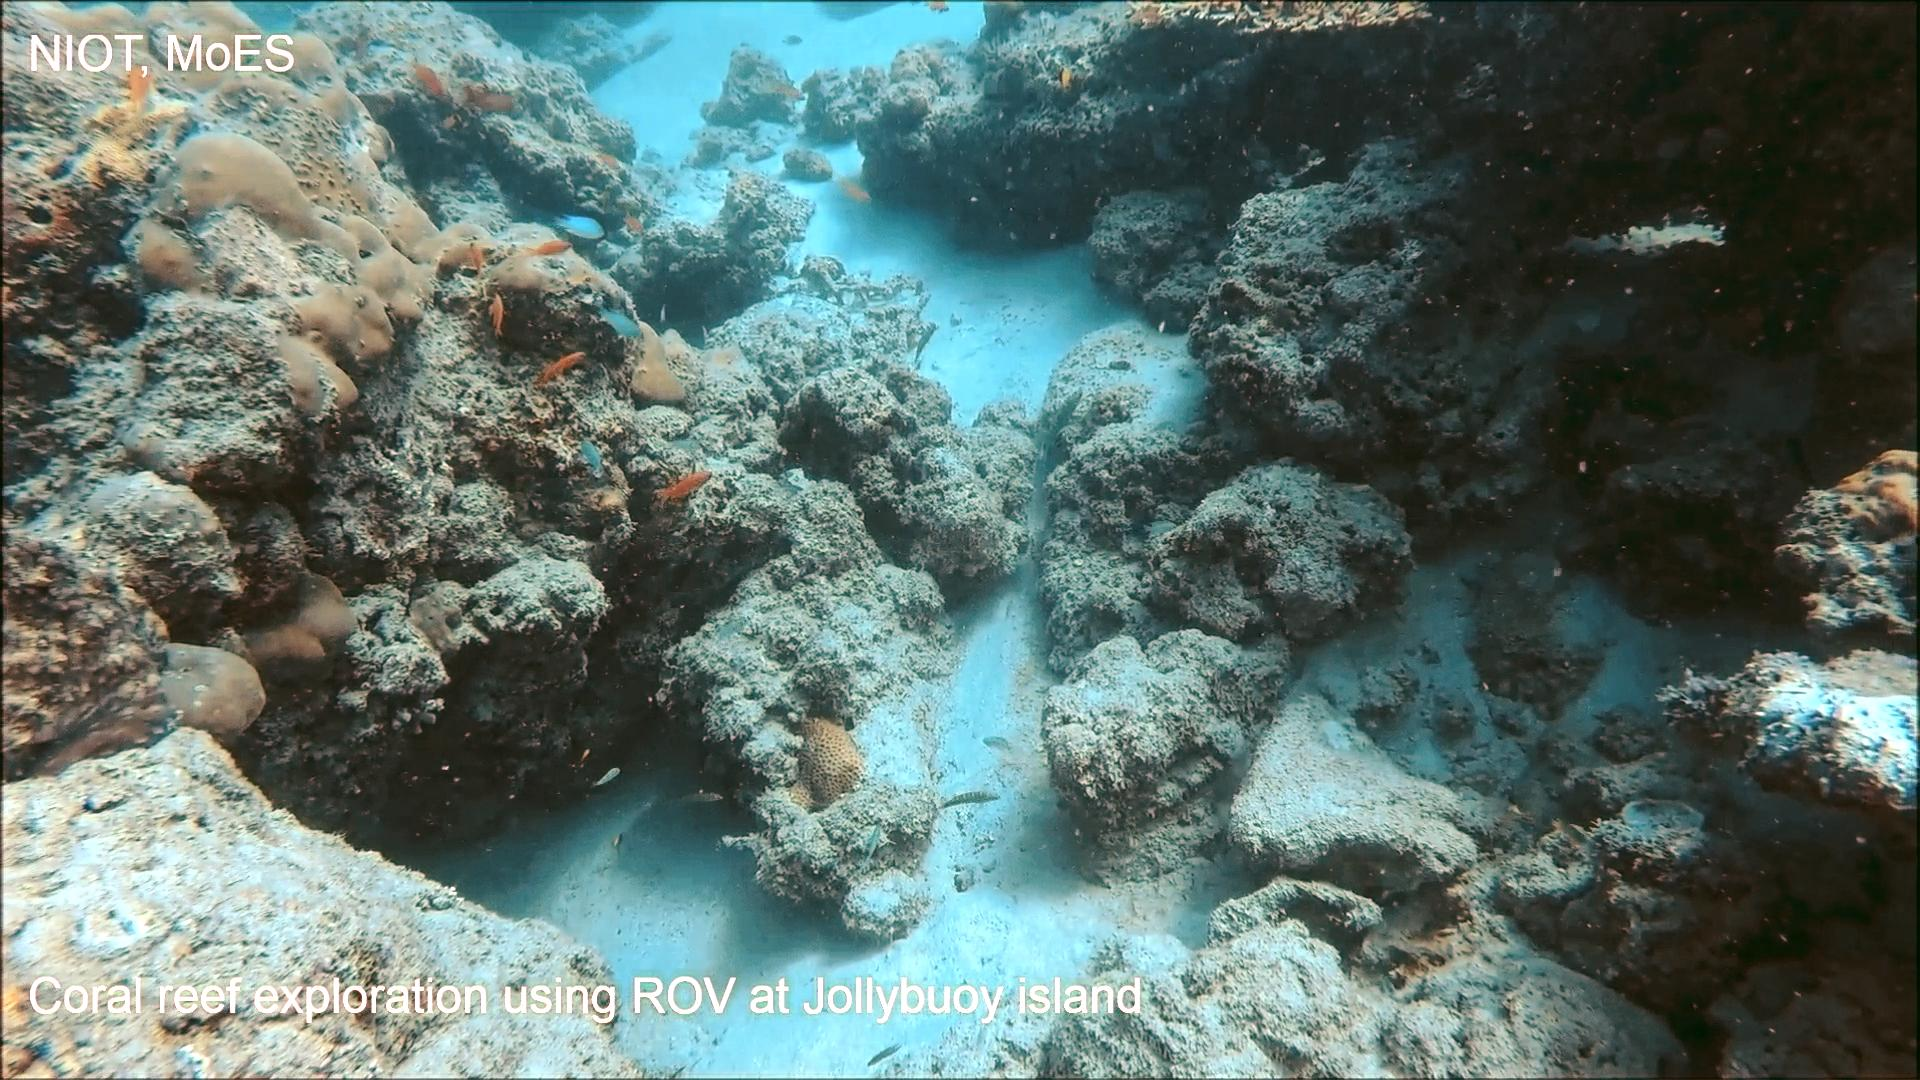Porites-Porites pukoensis: (102, 0, 480, 435)
